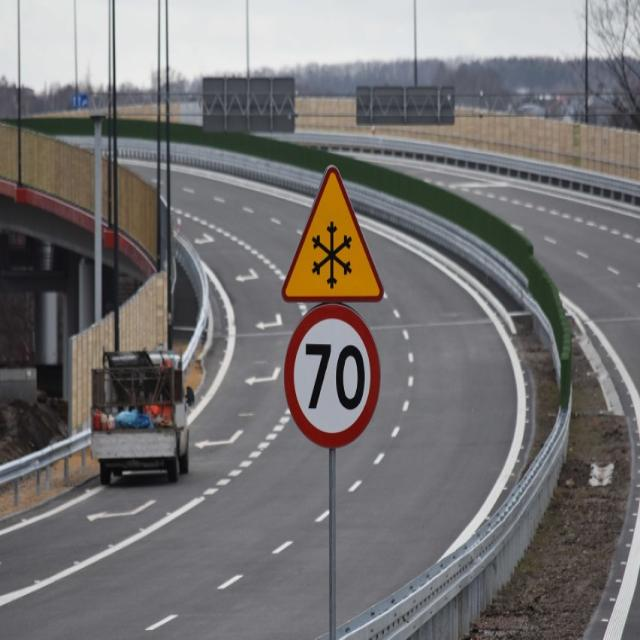Speed Limit -70-: (304, 342, 366, 412)
